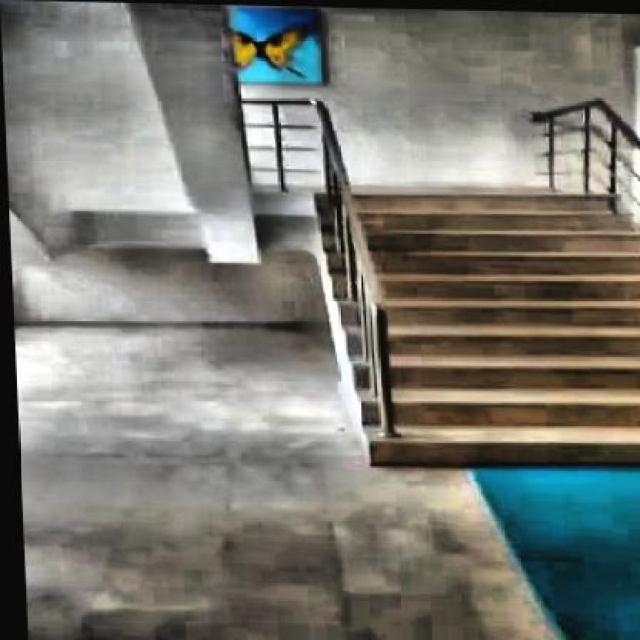stair: (297, 177, 638, 474)
